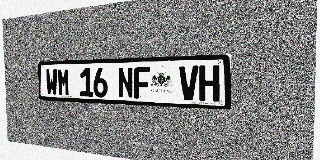1: (79, 68, 93, 97)
6: (93, 68, 108, 97)
F: (134, 67, 150, 99)
H: (199, 65, 220, 102)
M: (57, 68, 70, 96)
N: (118, 67, 133, 98)
V: (179, 66, 198, 101)
W: (45, 69, 58, 96)
